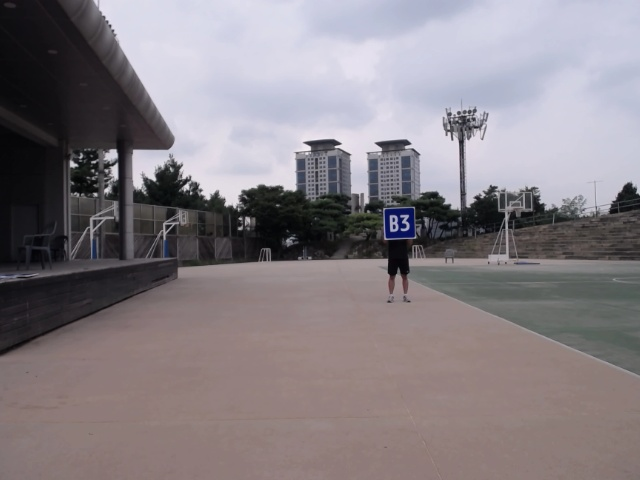delivery_b3: (382, 204, 418, 241)
